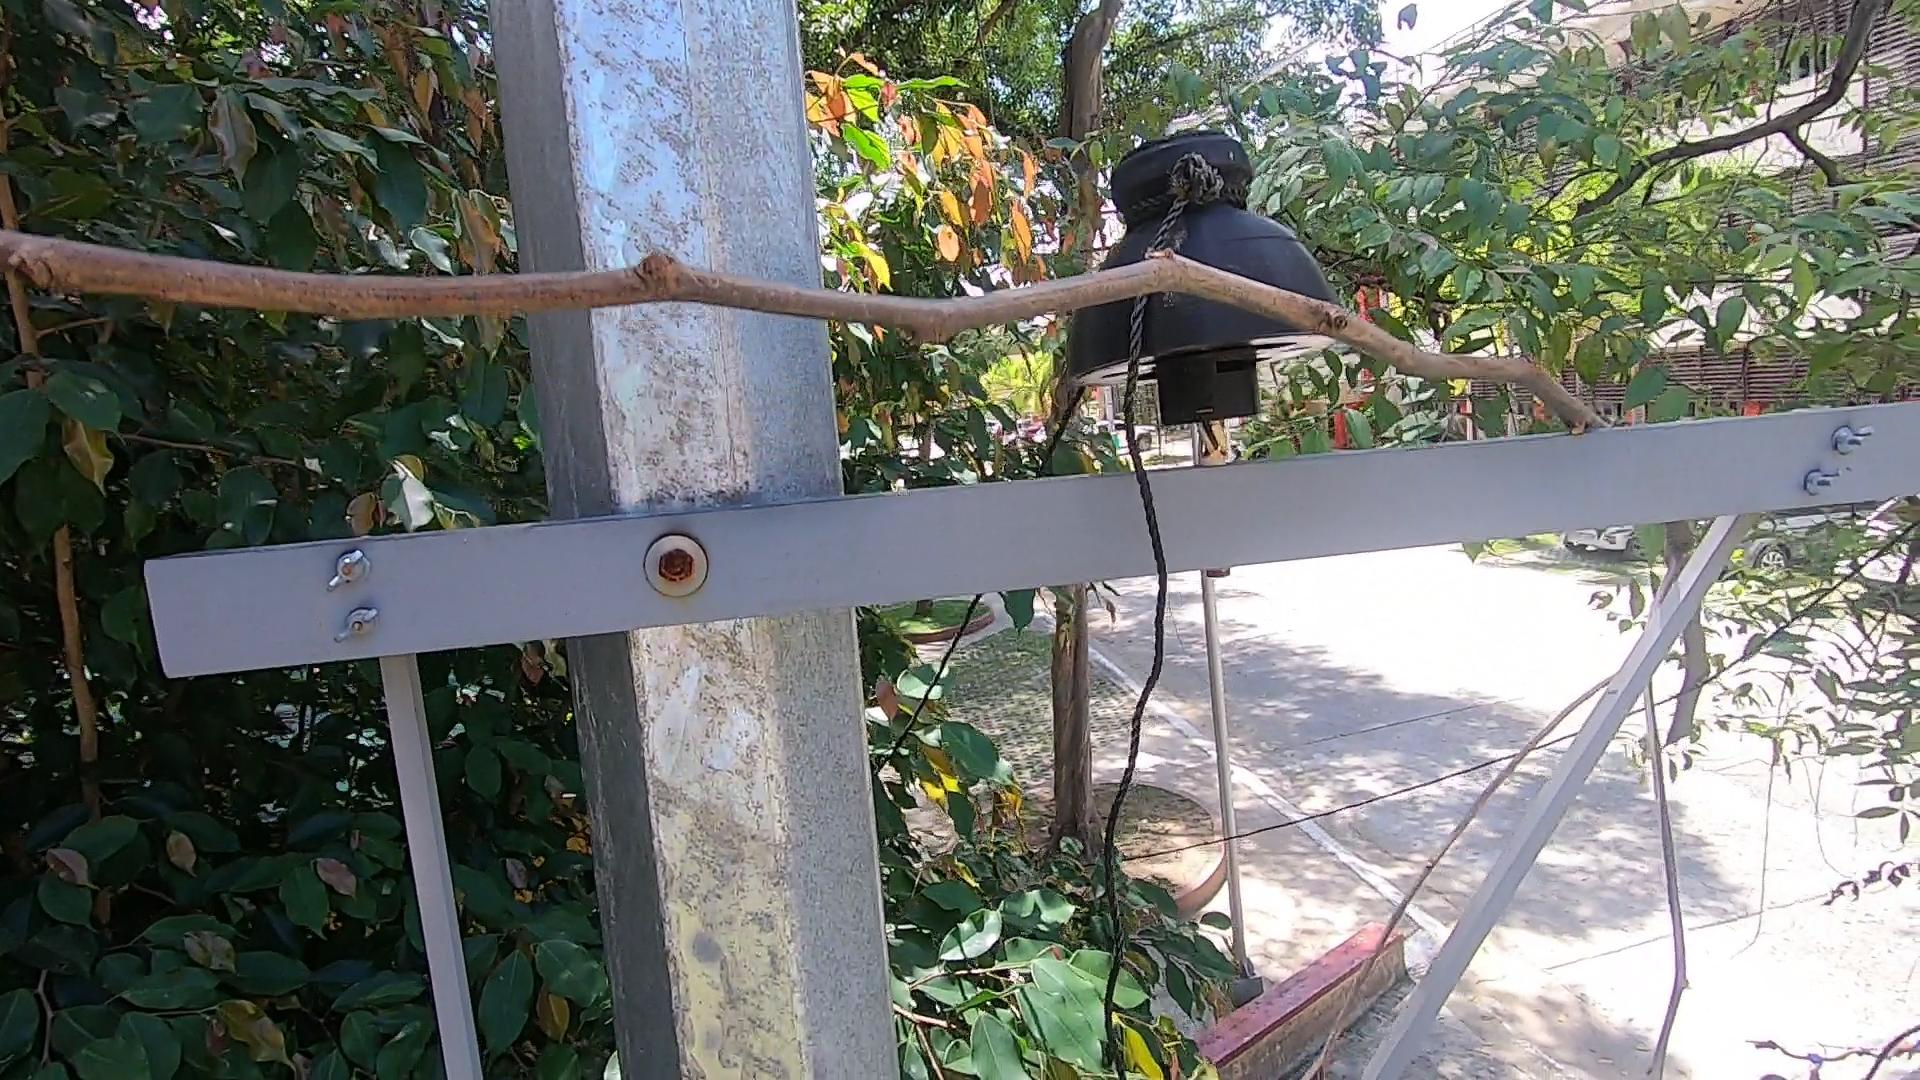tree branch: (4, 156, 1677, 469)
